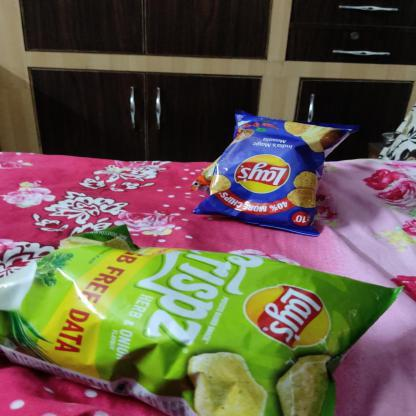indian_magic_masala: (201, 112, 343, 237)
